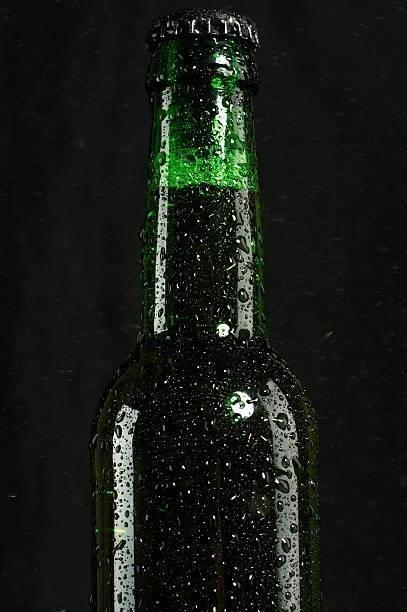bottle-glass: (84, 4, 328, 612)
